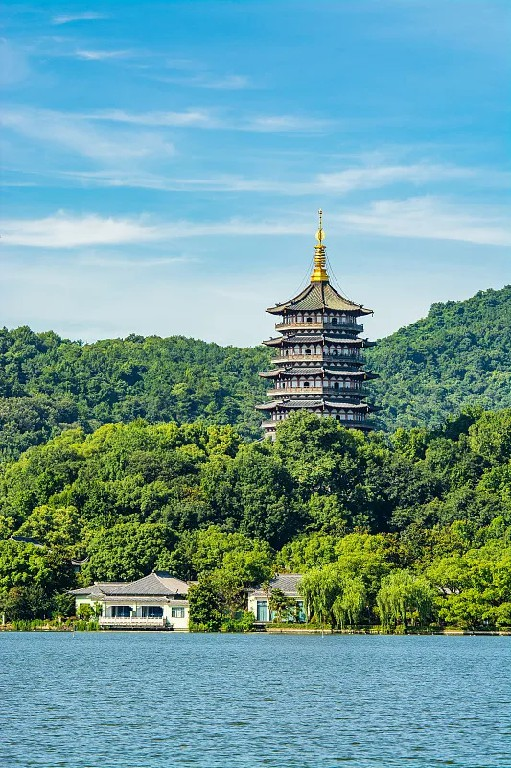Leifeng: (253, 211, 374, 438)
